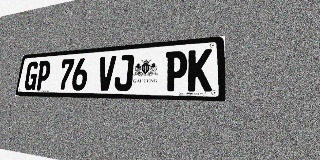6: (71, 58, 89, 91)
7: (57, 59, 75, 90)
G: (23, 61, 39, 90)
J: (114, 54, 134, 91)
K: (187, 49, 212, 91)
P: (164, 50, 188, 91), (35, 60, 52, 90)
V: (96, 56, 116, 91)
